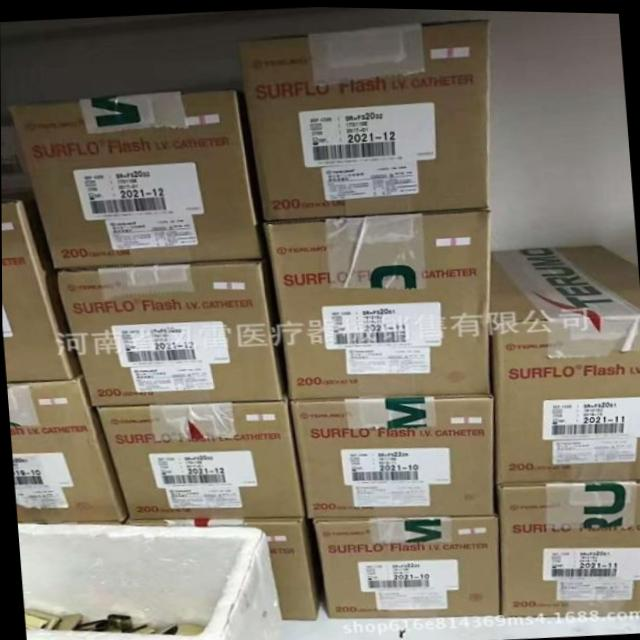box: (237, 17, 488, 220), (9, 87, 259, 266), (266, 206, 489, 398), (489, 240, 640, 482), (56, 259, 284, 405), (291, 393, 493, 516), (97, 399, 302, 518), (125, 517, 319, 619), (496, 476, 640, 613), (6, 364, 128, 521), (314, 513, 500, 615), (1, 193, 83, 381)
